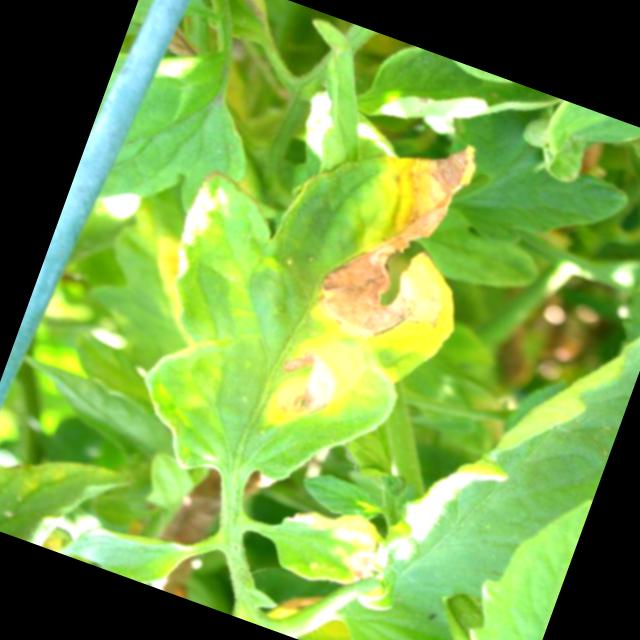Early_blight: (296, 110, 512, 374), (270, 489, 389, 587), (253, 338, 348, 445)
